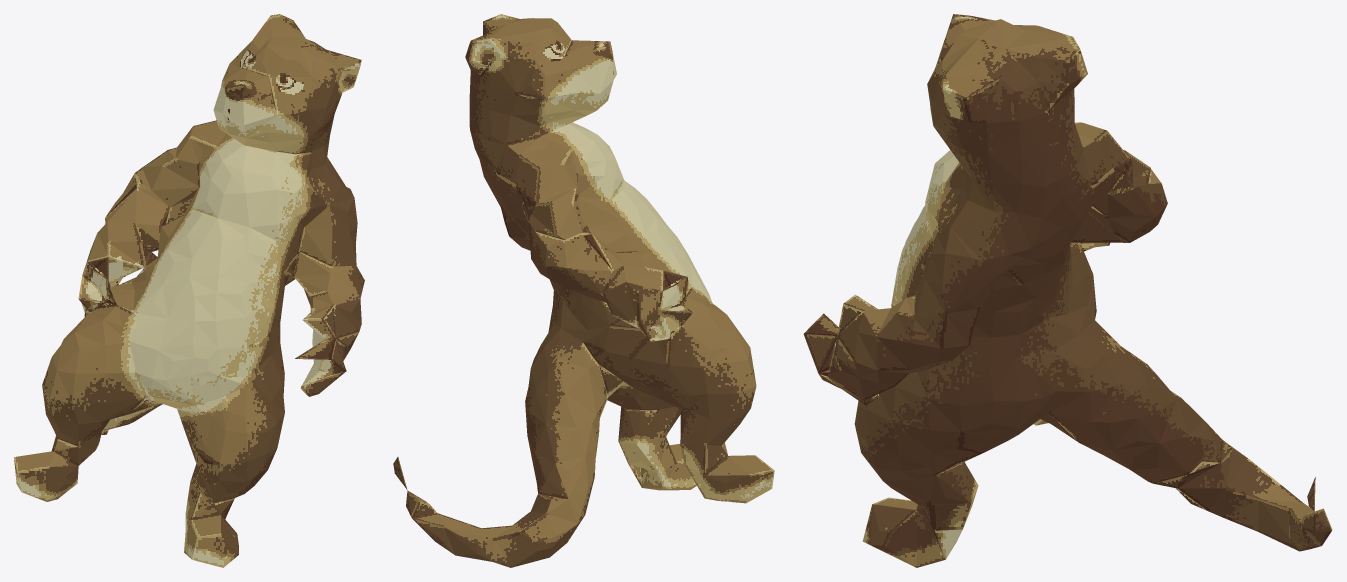
Rendered from otter.glb.
The picture shows the model from 3 angles, left to right: view 1: azimuth 30°, elevation 25°; view 2: azimuth 150°, elevation 25°; view 3: azimuth 270°, elevation 25°; orthographic projection. The views are drawn at different scales.
Parts seen in each view (by area): view 1: model_otter; view 2: model_otter; view 3: model_otter.
Part boxes in pixels (left/top/right/bottom): model_otter: left=14, top=14, right=364, bottom=567; model_otter: left=393, top=14, right=774, bottom=567; model_otter: left=803, top=14, right=1332, bottom=567.
Size of the model in its own units: 31.19 by 44.05 by 35.26.
1 material, 1 textured.
